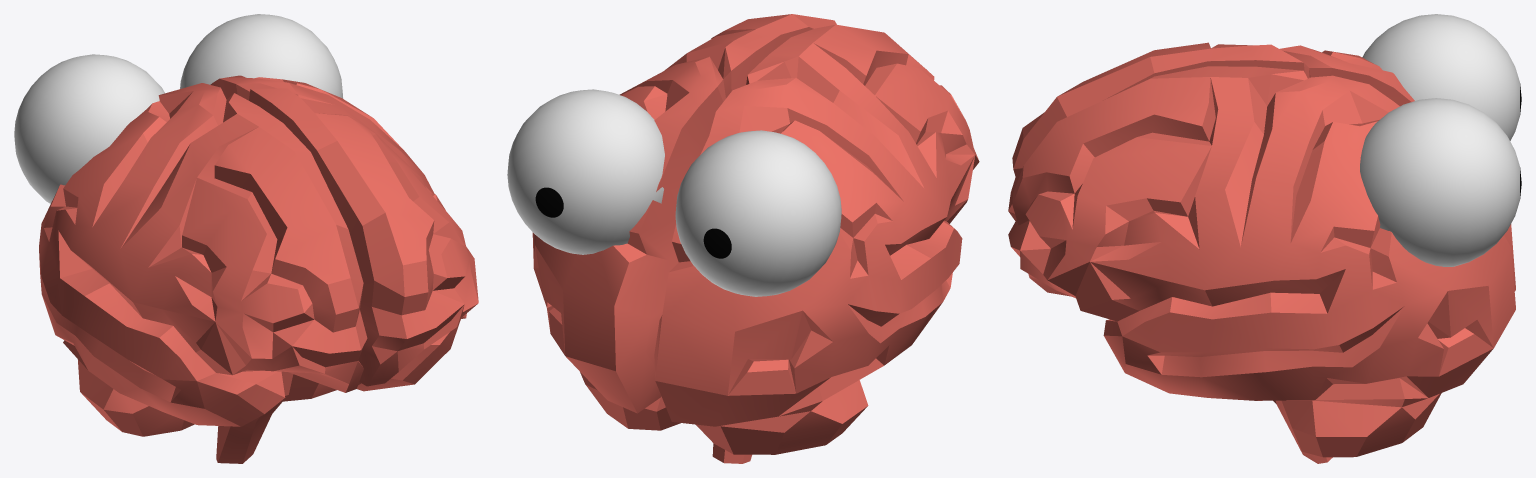
The model's file is eyeball_brain.glb.
3 views of the same model, side by side, from view 1: azimuth 30°, elevation 25°; view 2: azimuth 150°, elevation 25°; view 3: azimuth 270°, elevation 25° (orthographic). The views are drawn at different scales.
Visible parts, largest first — view 1: Brain, Sphere; view 2: Brain, Sphere; view 3: Brain, Sphere.
Boxes of the visible parts, box(x1,y1,x2,y2) form: Brain: box(39, 75, 478, 463); Sphere: box(14, 14, 343, 203); Brain: box(532, 14, 979, 463); Sphere: box(507, 89, 841, 296); Brain: box(1008, 42, 1515, 463); Sphere: box(1360, 14, 1521, 266).
Bounding box in the file's own units: 0.7216 × 0.7489 × 0.881.
